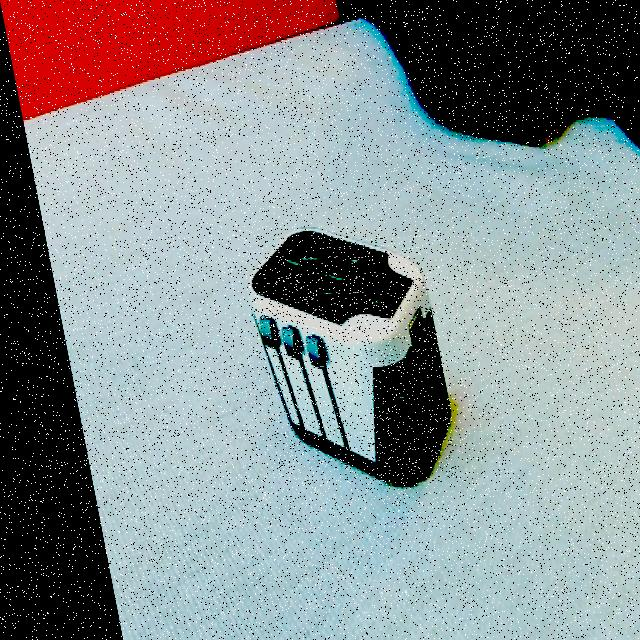adapter: (224, 228, 447, 486)
